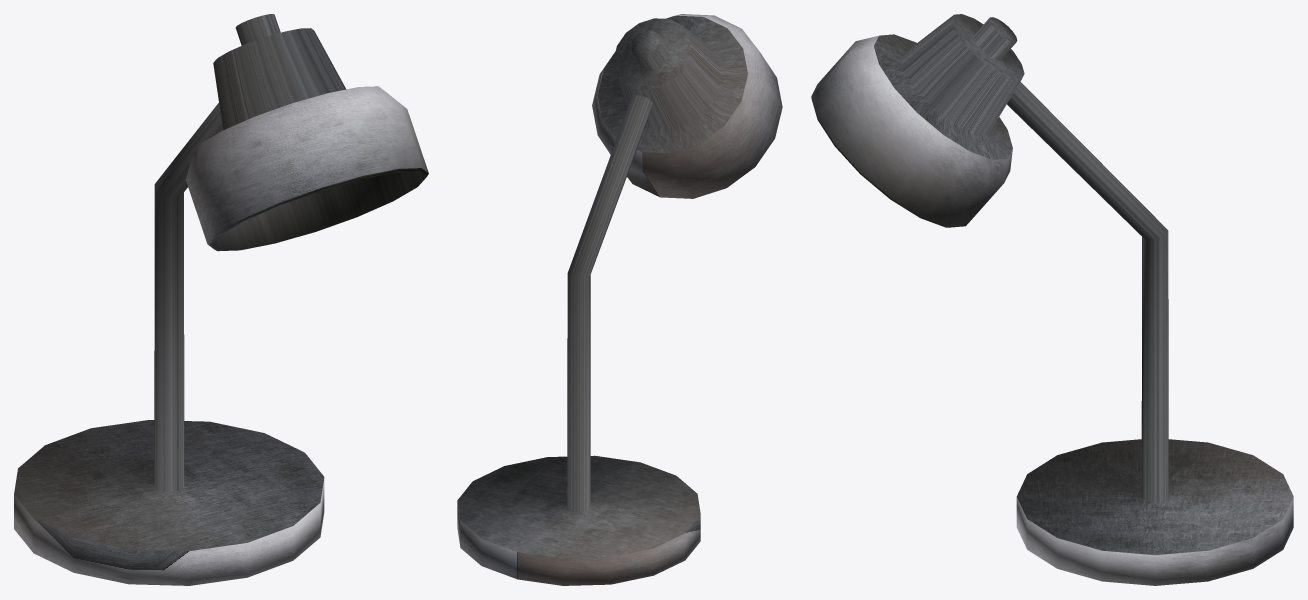
The model's file is DeskLamp.fbx.
The picture shows the model from 3 angles, left to right: view 1: azimuth 30°, elevation 25°; view 2: azimuth 150°, elevation 25°; view 3: azimuth 270°, elevation 25°; orthographic projection. The views are drawn at different scales.
Visible parts, largest first — view 1: DeskLamp, DeskLampLight; view 2: DeskLamp, DeskLampLight; view 3: DeskLamp, DeskLampLight.
Boxes of the visible parts, x1,y1,x2,y2 form: DeskLamp: (14, 103, 324, 585); DeskLampLight: (186, 14, 428, 251); DeskLamp: (457, 94, 700, 585); DeskLampLight: (592, 14, 782, 198); DeskLamp: (1007, 82, 1293, 585); DeskLampLight: (811, 14, 1024, 227).
Bounding box in the file's own units: 448 × 906 × 780.
